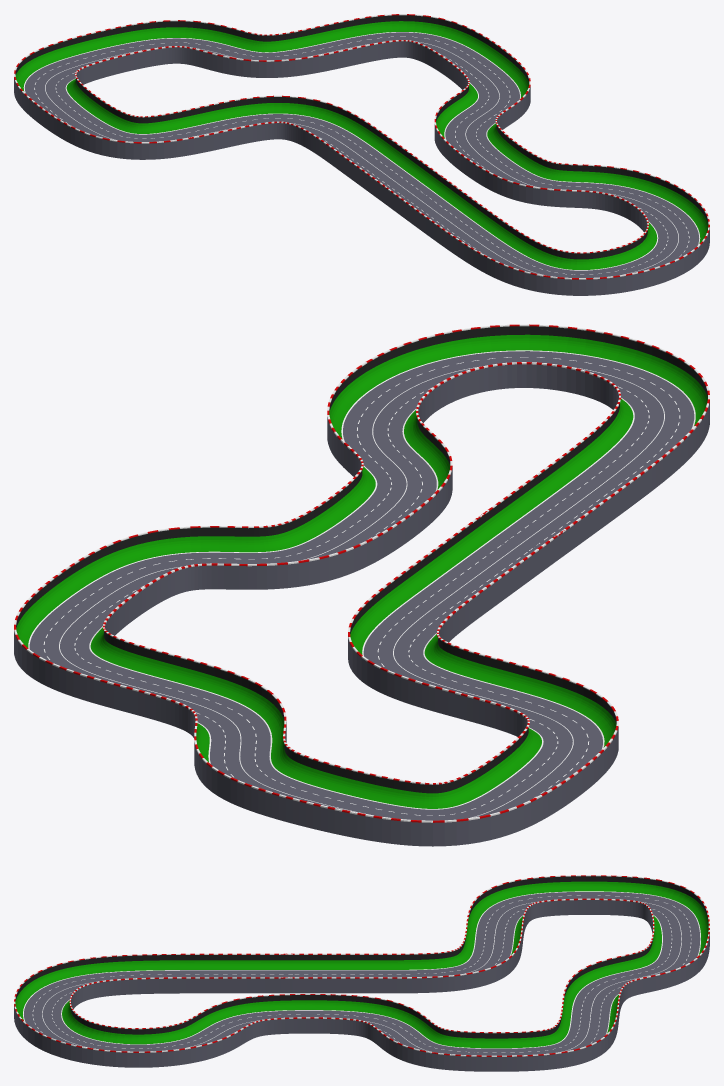
File: Track #14.fbx
The picture shows the model from 3 angles, top to bottom: view 1: azimuth 30°, elevation 25°; view 2: azimuth 150°, elevation 25°; view 3: azimuth 270°, elevation 25°; orthographic projection. The views are drawn at different scales.
Visible parts, largest first — view 1: Plane; view 2: Plane; view 3: Plane.
Part boxes in pixels (<box>): Plane: <box>14,14,709,295</box>; Plane: <box>14,324,709,846</box>; Plane: <box>14,875,709,1071</box>.
Size of the model in its own units: 4602 by 185 by 7480.
